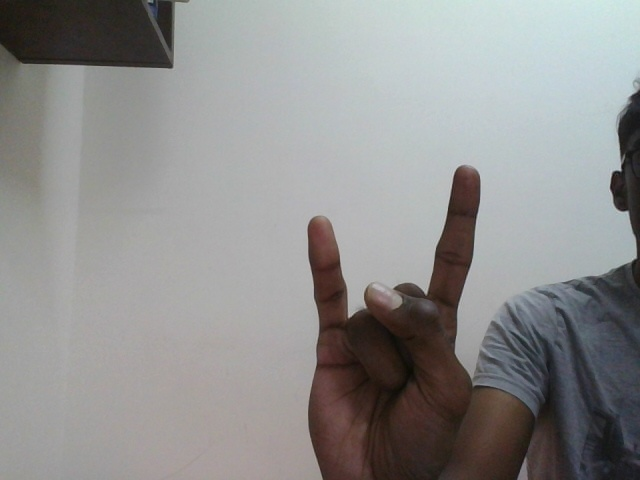I Love You: (307, 165, 481, 459)
